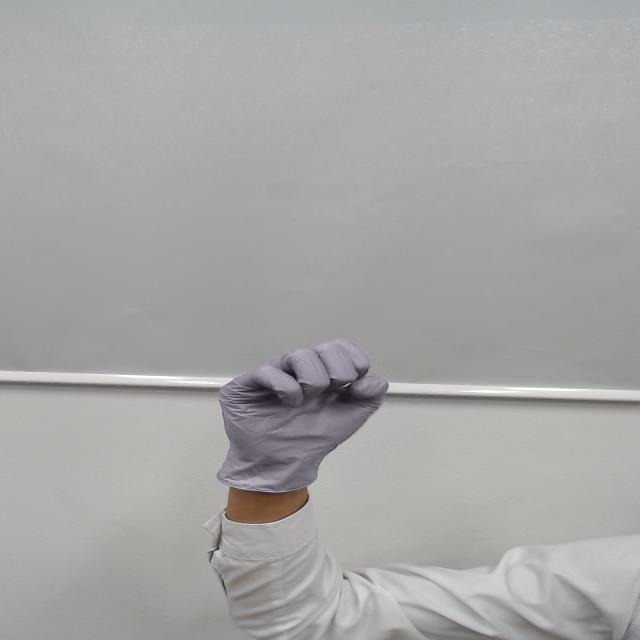glove: (207, 322, 408, 443)
